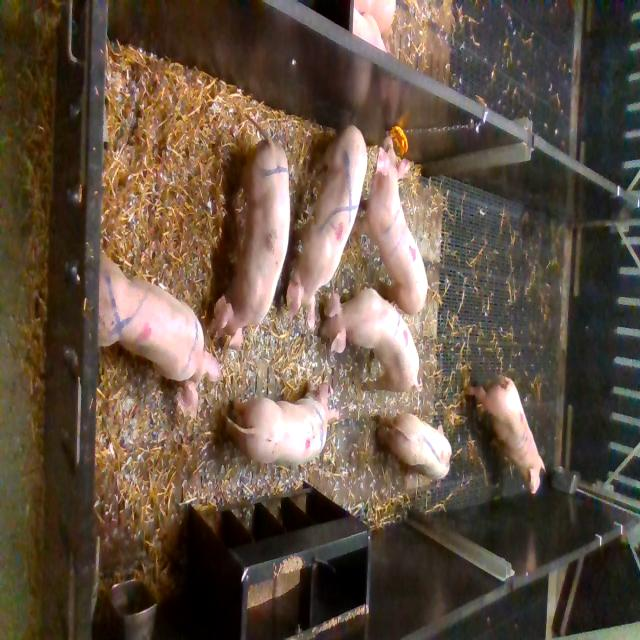pig: (98, 248, 224, 414), (208, 113, 290, 352), (286, 125, 367, 329), (351, 135, 428, 316), (318, 286, 423, 393), (221, 381, 340, 464), (464, 375, 545, 494), (379, 413, 452, 479)
